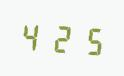five: (75, 20, 102, 58)
four: (18, 17, 45, 54)
two: (47, 18, 74, 56)
